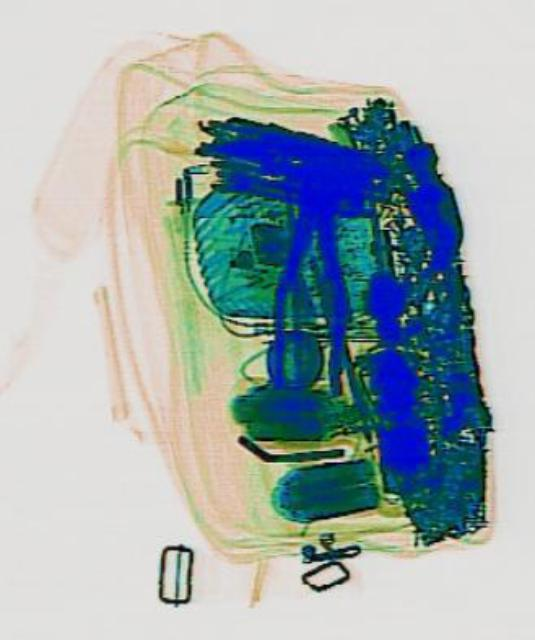Pliers: (266, 157, 355, 395)
